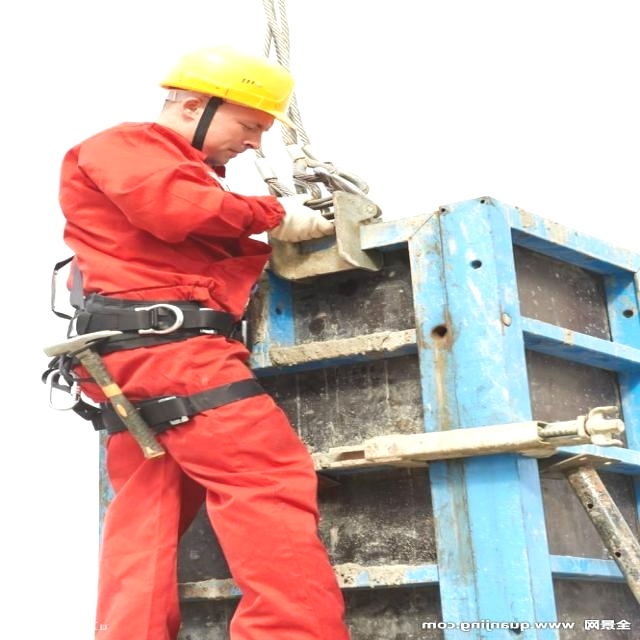Con_Casco: (162, 46, 290, 160)
